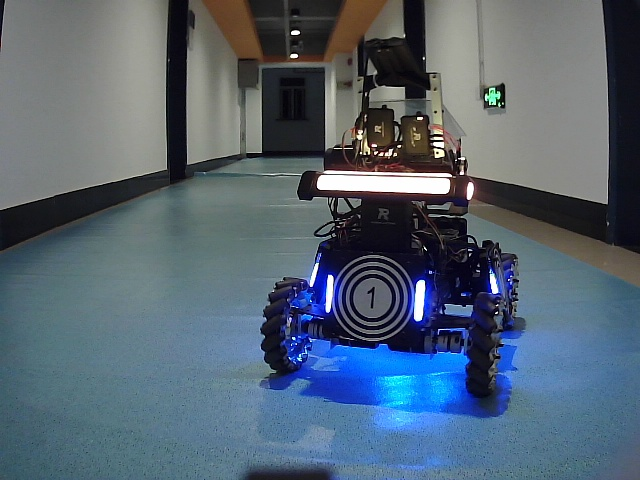lamp: (408, 271, 428, 326), (324, 272, 334, 318)
pair: (325, 275, 425, 322)
